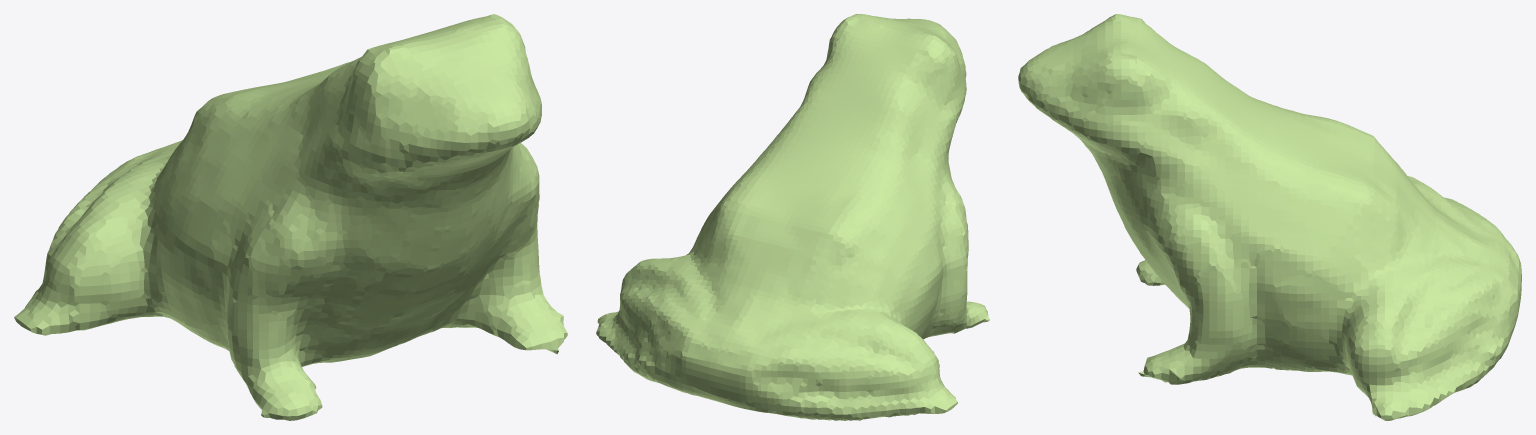
The model's file is forg.fbx.
The picture shows the model from 3 angles, left to right: view 1: azimuth 30°, elevation 25°; view 2: azimuth 150°, elevation 25°; view 3: azimuth 270°, elevation 25°; orthographic projection. The views are drawn at different scales.
Parts seen in each view (by area): view 1: Ceramic-frog_low-poly; view 2: Ceramic-frog_low-poly; view 3: Ceramic-frog_low-poly.
Part boxes in pixels (box(x1,y1,x2,y2)): Ceramic-frog_low-poly: box(14, 14, 567, 420); Ceramic-frog_low-poly: box(596, 14, 989, 420); Ceramic-frog_low-poly: box(1018, 14, 1521, 420).
Bounding box in the file's own units: 109 × 75.45 × 117.
